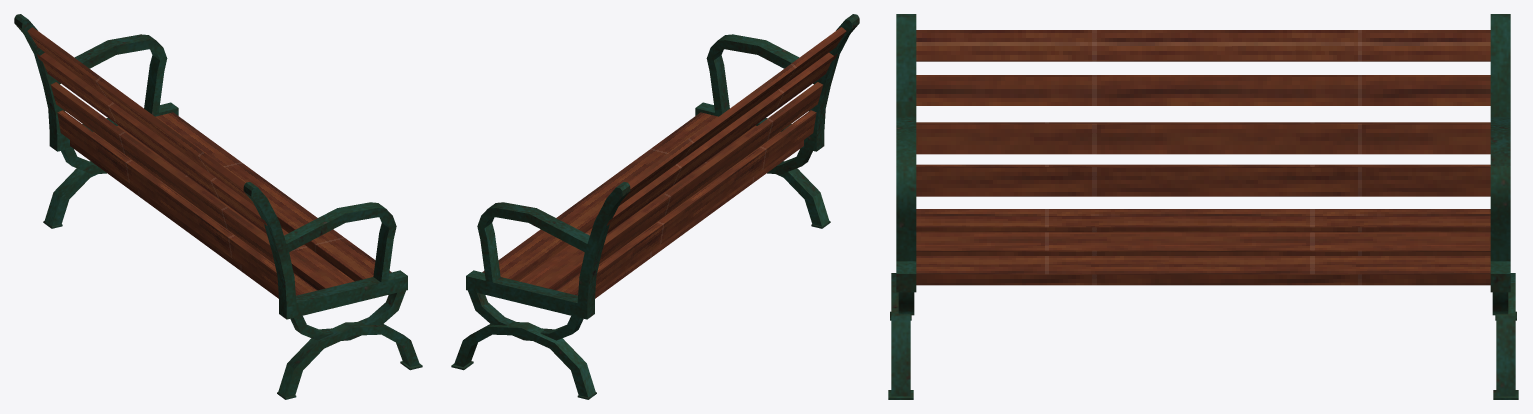
File: bench.glb
3 views of the same model, side by side, from view 1: azimuth 30°, elevation 25°; view 2: azimuth 150°, elevation 25°; view 3: azimuth 270°, elevation 25° (orthographic). The views are drawn at different scales.
Parts seen in each view (by area): view 1: Bench; view 2: Bench; view 3: Bench.
Part boxes in pixels (x1=…): Bench: x1=14, y1=14, x2=422, y2=399; Bench: x1=451, y1=14, x2=859, y2=399; Bench: x1=888, y1=14, x2=1518, y2=399.
Bounding box in the file's own units: 0.2688 × 0.3315 × 0.6737.
2 materials, 2 textured.
